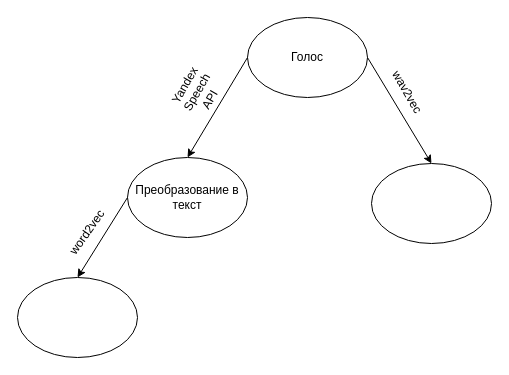
This 509x375 diagram has some shape labels left out. Each missing label, with the centre of its shape:
"извлечение речевых признаков из речи" goes at pixel 431 203.
"Команды, адресованные актору" goes at pixel 77 317.
